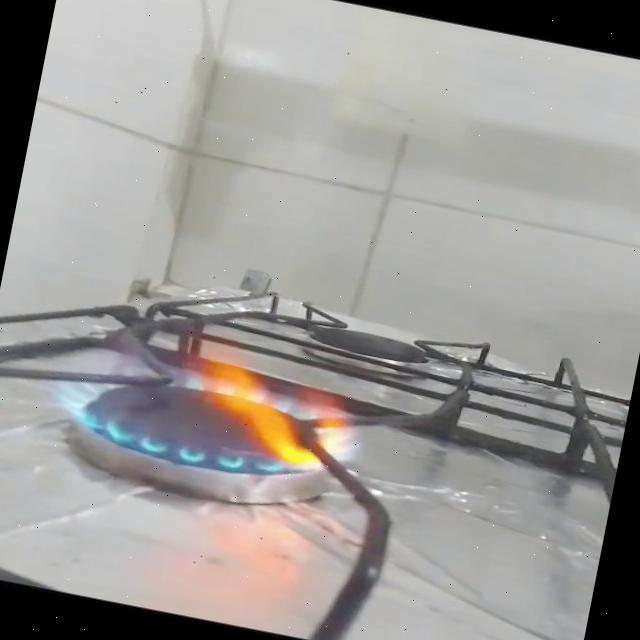fire: (41, 301, 384, 494)
